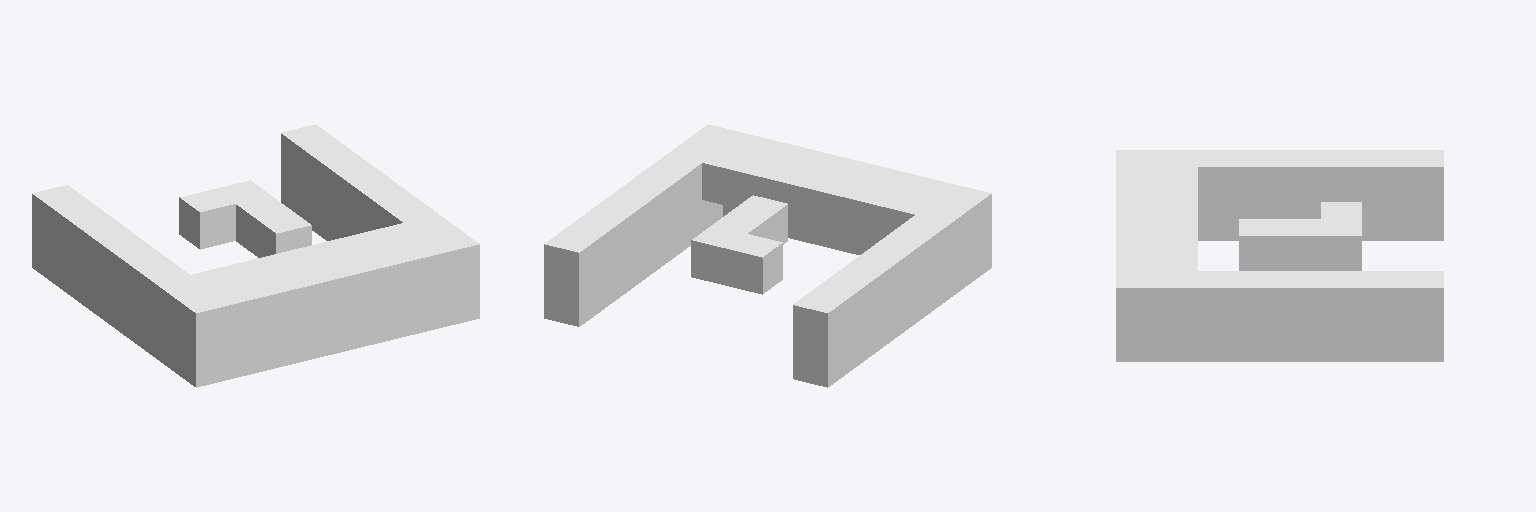
File: Hair7.obj
The picture shows the model from 3 angles: view 1: azimuth 30°, elevation 25°; view 2: azimuth 150°, elevation 25°; view 3: azimuth 270°, elevation 25°; orthographic projection.
Visible parts, largest first — view 1: object 1; view 2: object 1; view 3: object 1.
Boxes of the visible parts, <box> form: object 1: <box>32,124,479,387</box>; object 1: <box>544,124,991,387</box>; object 1: <box>1116,150,1443,361</box>.
Bounding box in the file's own units: 0.8 × 0.2 × 0.8.